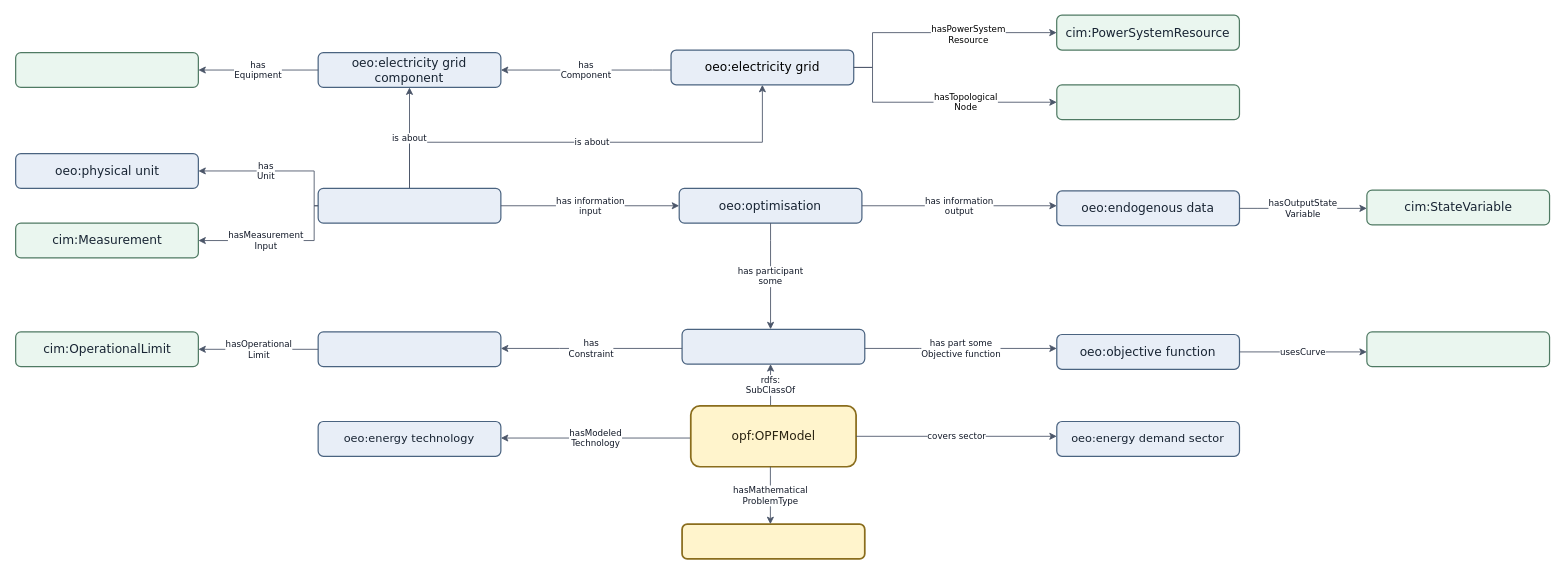
Some shapes in this 1565 by 576 pixel diagram are drawn without their labels. The shapes that lost their labels are listed below. From the top down, each one's box as (x1, y1, x2, y2) in pixels, then its label:
(15, 52, 199, 88): cim:Equipment
(1056, 84, 1240, 120): cim:TopologicalNode
(317, 187, 501, 223): oeo:exogenous data
(317, 331, 501, 367): oeo:constraint
(681, 328, 865, 364): oeo:optimisation model
(1366, 331, 1550, 367): cim:Curve
(681, 523, 865, 559): opf:MathematicalProblemType
